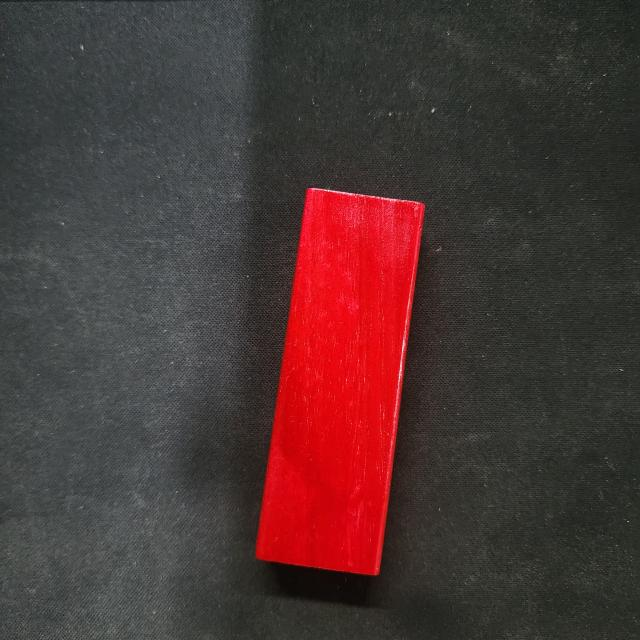red: (255, 186, 425, 576)
